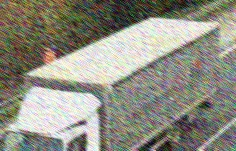truck: (1, 18, 219, 150)
